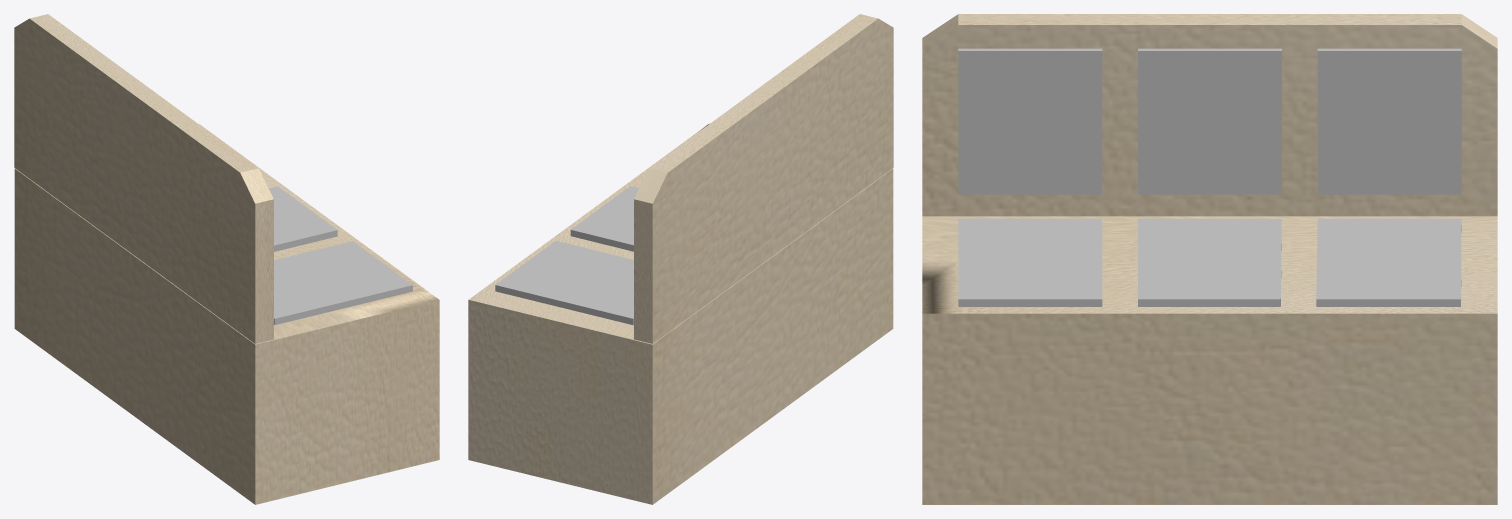
File: train seats.fbx
3 renders of one model, left to right at view 1: azimuth 30°, elevation 25°; view 2: azimuth 150°, elevation 25°; view 3: azimuth 270°, elevation 25°, orthographic. The views are drawn at different scales.
Visible parts, largest first — view 1: polySurface6; view 2: polySurface6; view 3: polySurface6.
Part boxes in pixels (x1,y1,x2,y2): polySurface6: [14, 14, 439, 504]; polySurface6: [468, 14, 893, 504]; polySurface6: [922, 14, 1497, 504].
Bounding box in the file's own units: 54.81 × 91.3 × 124.
